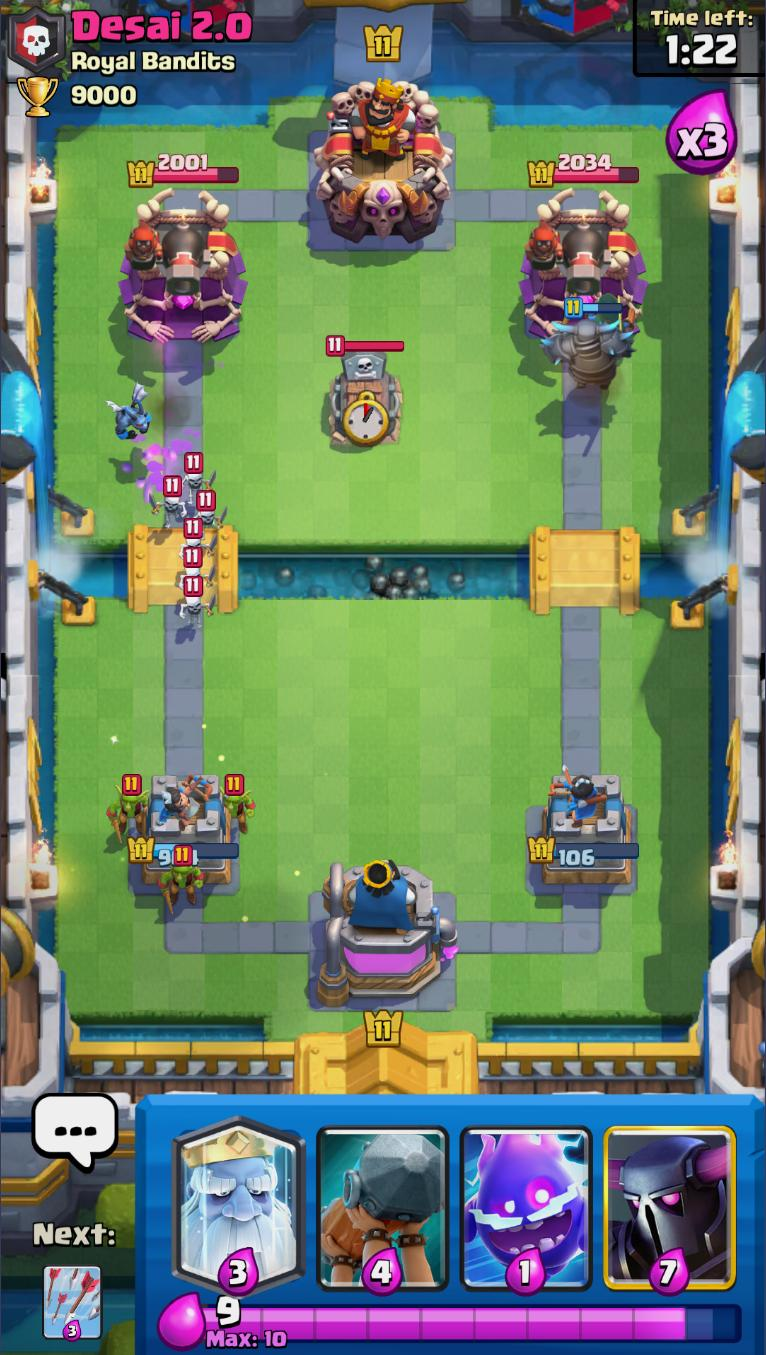ArrowNext: (41, 1261, 101, 1346)
BattleRamDeck: (310, 1094, 456, 1299)
Cannoneer: (524, 214, 609, 300), (127, 216, 207, 300)
ElectroSpiritDeck: (456, 1096, 597, 1293)
Elixir: (203, 1296, 743, 1346)
EnemyTower: (121, 187, 250, 343), (520, 189, 650, 343)
Goblin: (153, 847, 207, 913), (106, 774, 149, 843), (217, 776, 257, 840)
KingTower: (314, 77, 456, 246)
MyBandit: (584, 309, 641, 361)
MyKingTower: (319, 860, 457, 1011)
MyMinion: (109, 383, 154, 441)
MyPekka: (543, 297, 639, 399)
MyPrincessTower: (527, 774, 641, 890), (127, 776, 241, 890)
MyPrincessTowerHP: (127, 833, 241, 869), (526, 836, 641, 869)
PekkaDeck: (596, 1096, 741, 1293)
RoyaleGhostDeck: (167, 1094, 313, 1294)
Skeleton: (149, 474, 189, 529), (179, 576, 214, 631), (177, 547, 219, 590), (180, 517, 220, 560), (189, 489, 230, 530), (179, 454, 217, 491)
Tombstone: (324, 331, 406, 447)
TowerPrincessHP: (129, 153, 241, 189), (529, 153, 640, 189)
